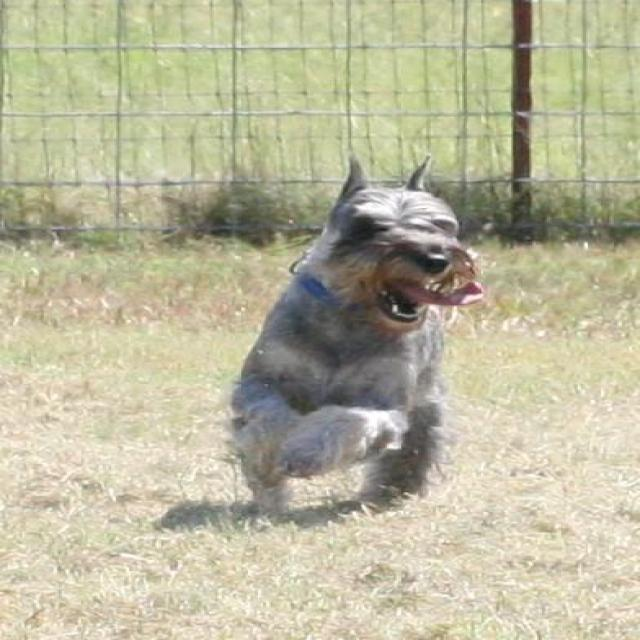standard_schnauzer: (220, 160, 487, 523)
